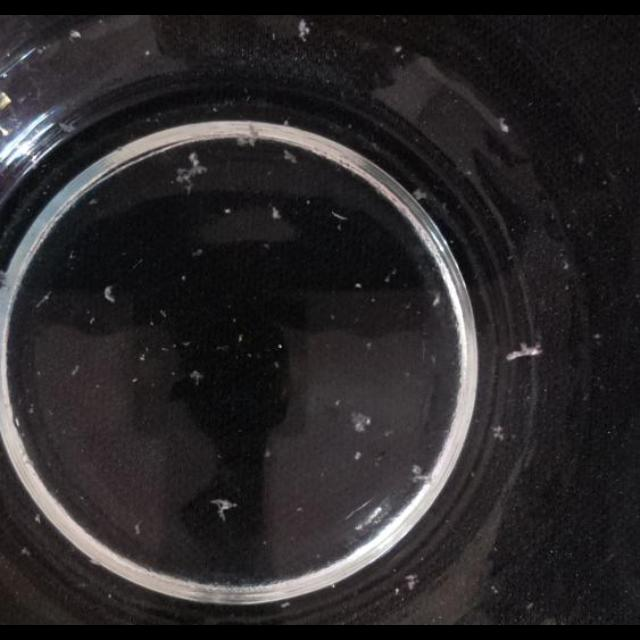Fibre: (174, 150, 208, 190), (209, 499, 237, 523), (348, 410, 372, 432), (235, 132, 255, 148), (58, 120, 78, 134), (284, 150, 298, 164), (189, 370, 203, 384), (412, 188, 428, 200), (331, 210, 347, 220), (69, 30, 81, 40)
microbeads: (297, 18, 311, 40), (498, 118, 509, 134), (411, 464, 423, 476), (132, 521, 142, 535), (272, 207, 282, 220), (192, 248, 204, 258), (70, 365, 80, 377), (432, 294, 440, 308), (21, 547, 31, 557), (576, 152, 584, 164), (34, 512, 42, 524), (353, 450, 362, 460), (393, 44, 402, 54), (89, 198, 99, 206), (562, 260, 570, 270), (384, 273, 392, 283), (592, 332, 602, 340), (527, 601, 535, 611), (365, 339, 373, 348), (138, 354, 146, 362), (295, 506, 303, 514), (224, 206, 232, 214), (334, 399, 342, 407), (130, 376, 138, 384), (264, 448, 270, 458), (355, 282, 363, 288), (181, 274, 187, 282), (28, 406, 34, 414), (89, 316, 95, 324), (274, 360, 280, 368), (144, 50, 152, 56), (466, 169, 472, 177), (565, 283, 571, 291), (284, 118, 290, 126)
